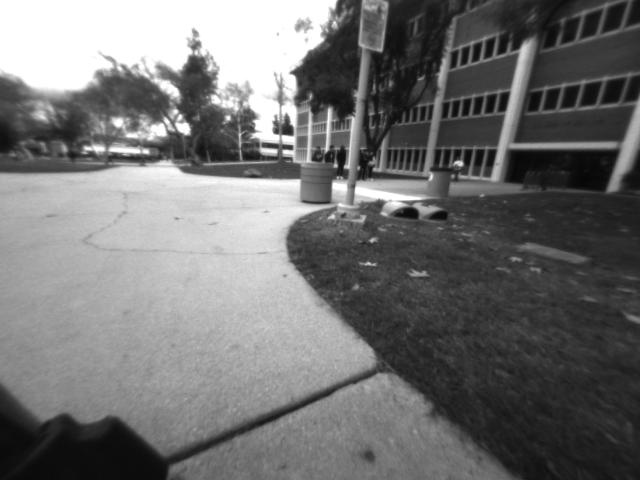trashcan: (296, 154, 336, 210), (422, 160, 456, 200)
